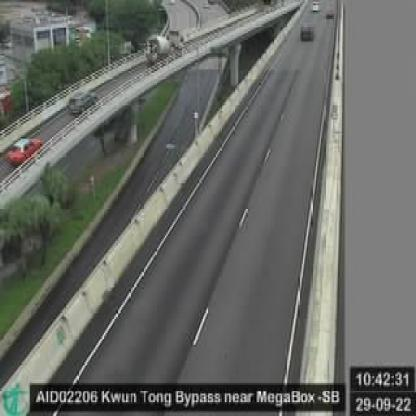Car: (7, 126, 42, 172), (66, 81, 100, 118), (299, 19, 317, 49), (309, 0, 321, 16), (325, 5, 335, 19)
Truck: (143, 24, 187, 66)
